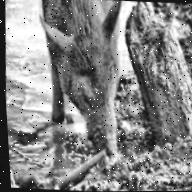boar: (24, 0, 133, 162)
